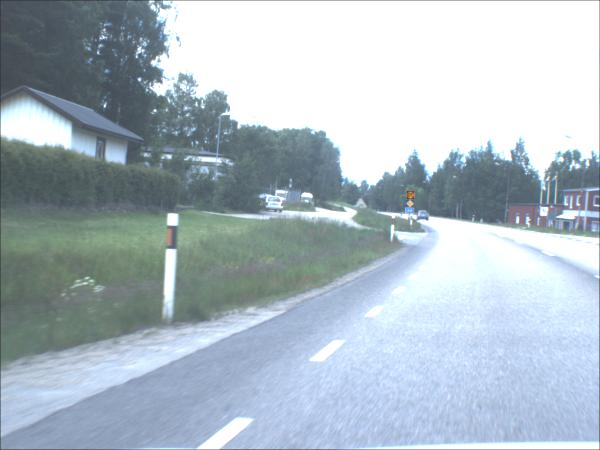70_SIGN: (407, 192, 415, 201)
PRIORITY_ROAD: (406, 201, 414, 209)
